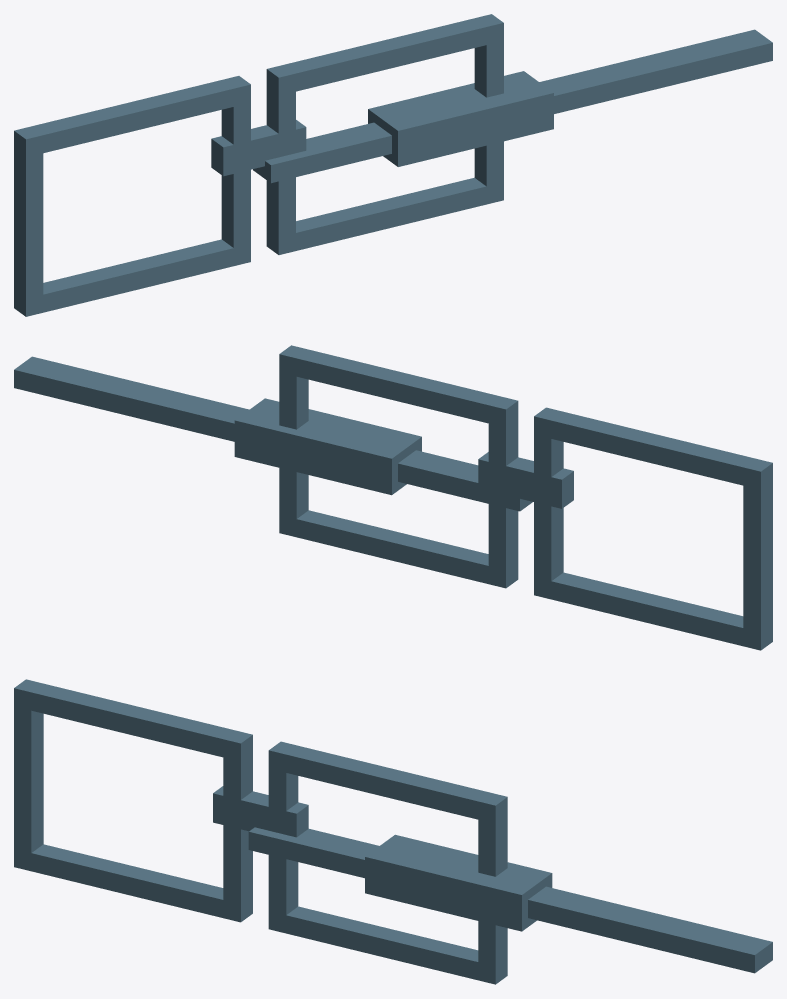
File: shade_shifter_poc.glb
3 renders of one model, top to bottom at view 1: azimuth 30°, elevation 25°; view 2: azimuth 150°, elevation 25°; view 3: azimuth 330°, elevation 25°, orthographic.
Visible parts, largest first — view 1: front, left_temple; view 2: front, left_temple; view 3: front, left_temple.
Part boxes in pixels (bbox=[...]): front: bbox=[14, 14, 503, 316]; left_temple: bbox=[253, 29, 772, 183]; front: bbox=[279, 345, 772, 650]; left_temple: bbox=[14, 356, 532, 511]; front: bbox=[14, 679, 507, 984]; left_temple: bbox=[248, 827, 772, 973].
Bounding box in the file's own units: 214 × 49 × 15.
